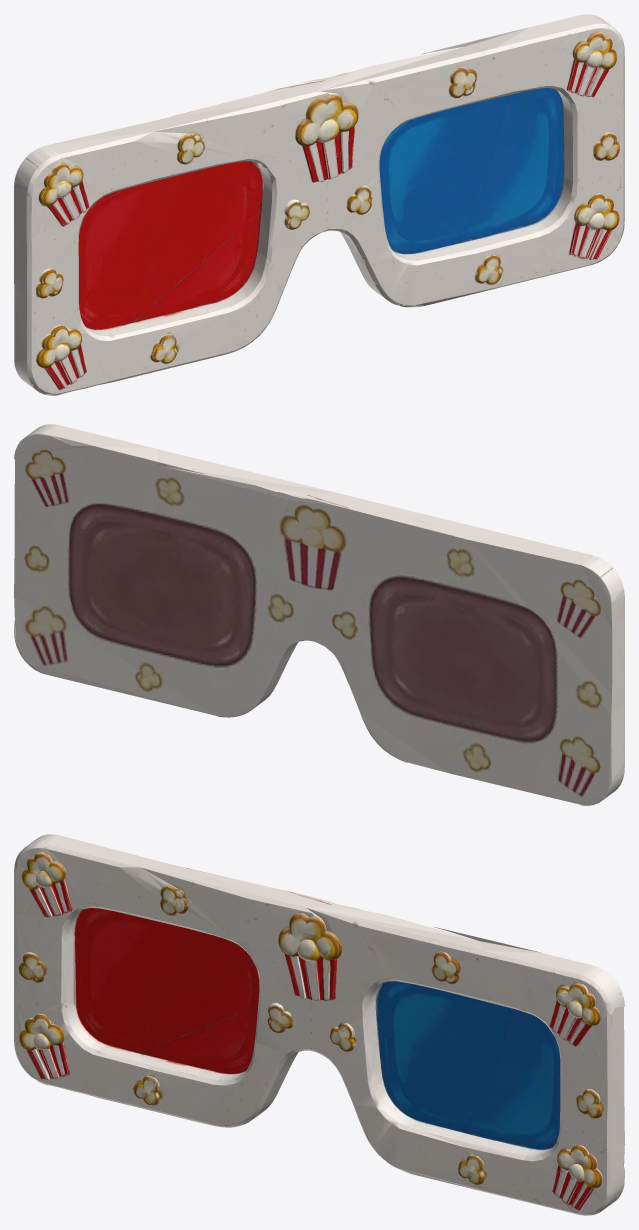
File: retro_3d.glb
The picture shows the model from 3 angles, top to bottom: view 1: azimuth 30°, elevation 25°; view 2: azimuth 150°, elevation 25°; view 3: azimuth 330°, elevation 25°; orthographic projection.
Parts seen in each view (by area): view 1: Mesh_0; view 2: Mesh_0; view 3: Mesh_0.
Part boxes in pixels (left/top/right/bottom): Mesh_0: left=14, top=14, right=624, bottom=395; Mesh_0: left=14, top=424, right=624, bottom=805; Mesh_0: left=14, top=834, right=624, bottom=1215.
Bounding box in the file's own units: 1 × 0.3849 × 0.0544.
1 material, 1 textured.
